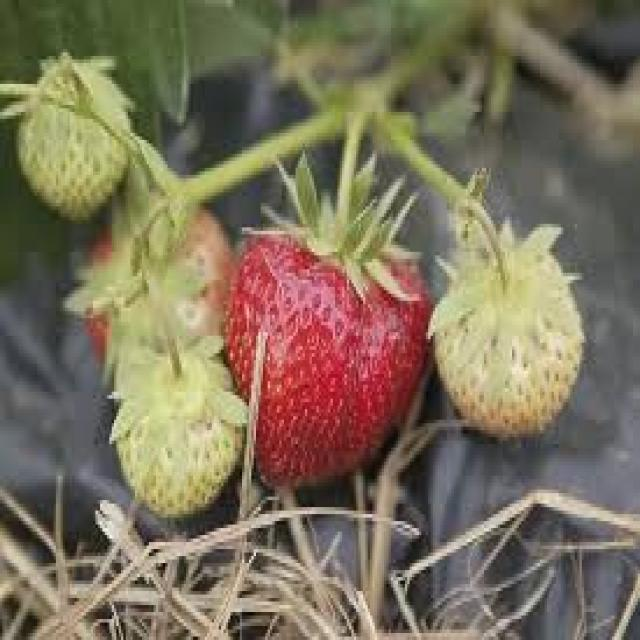Healthy Fruit: (222, 233, 427, 487), (437, 250, 579, 439), (116, 380, 238, 525)
